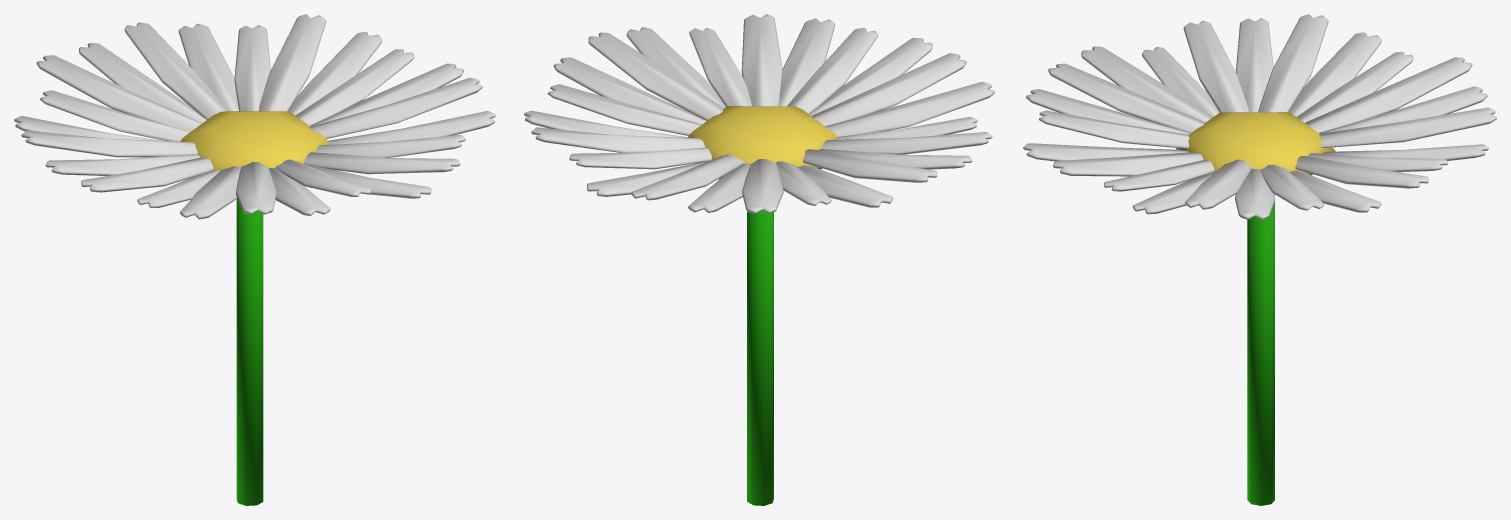
Rendered from WhiteFlower.fbx.
The picture shows the model from 3 angles, left to right: view 1: azimuth 30°, elevation 25°; view 2: azimuth 150°, elevation 25°; view 3: azimuth 270°, elevation 25°; orthographic projection.
Visible parts, largest first — view 1: Plane.008; view 2: Plane.008; view 3: Plane.008.
Part boxes in pixels (bbox=[...]): Plane.008: bbox=[14, 14, 495, 505]; Plane.008: bbox=[524, 14, 994, 505]; Plane.008: bbox=[1023, 14, 1496, 505].
Size of the model in its own units: 34.66 by 31.72 by 34.83.
